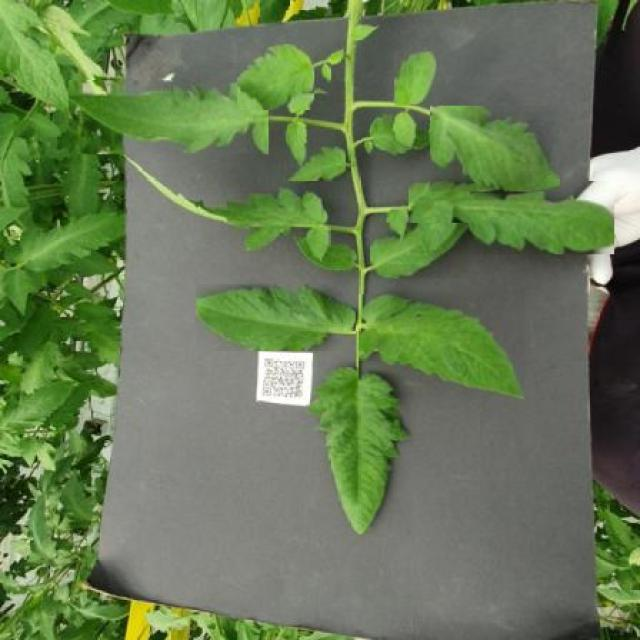Healthy: (306, 367, 411, 534), (359, 294, 525, 399), (409, 180, 614, 254), (68, 80, 269, 154), (430, 106, 560, 191), (196, 285, 356, 351), (370, 223, 469, 278), (237, 44, 314, 110), (394, 52, 436, 107), (285, 146, 346, 180)
